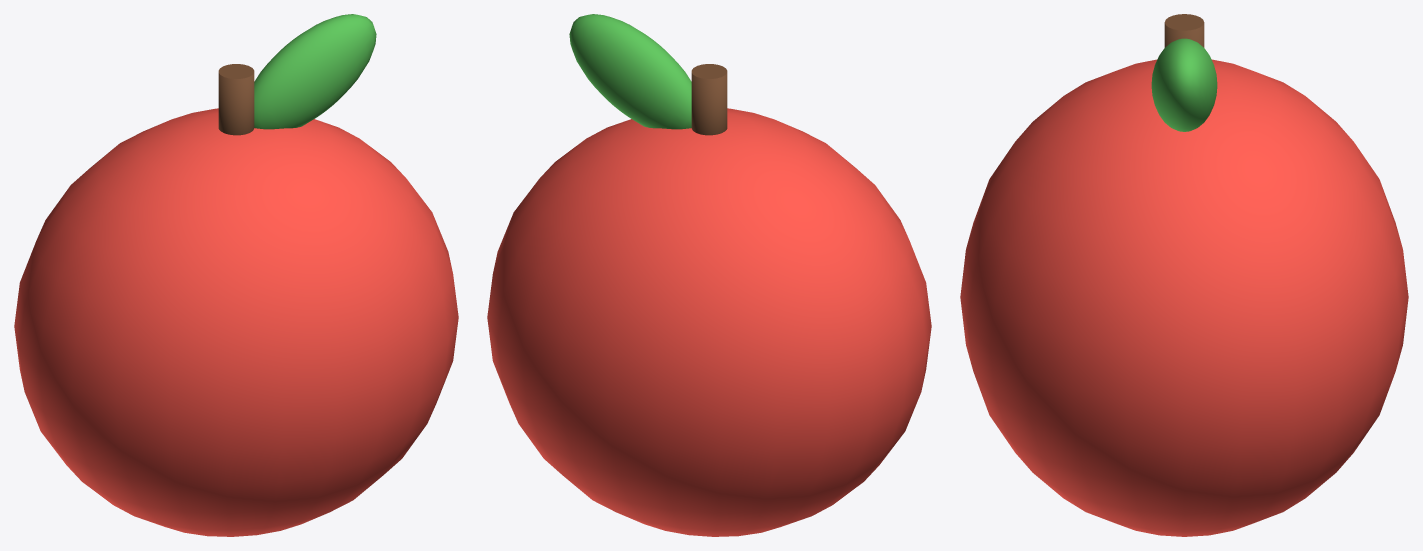
Rendered from icon_need_food.glb.
3 views of the same model, side by side, from view 1: azimuth 30°, elevation 25°; view 2: azimuth 150°, elevation 25°; view 3: azimuth 270°, elevation 25° (orthographic). The views are drawn at different scales.
Parts seen in each view (by area): view 1: icon_need_food; view 2: icon_need_food; view 3: icon_need_food.
Boxes of the visible parts, <box> form: icon_need_food: <box>14,14,458,536</box>; icon_need_food: <box>487,14,931,536</box>; icon_need_food: <box>960,14,1408,536</box>.
Size of the model in its own units: 0.38 by 0.4363 by 0.34.
